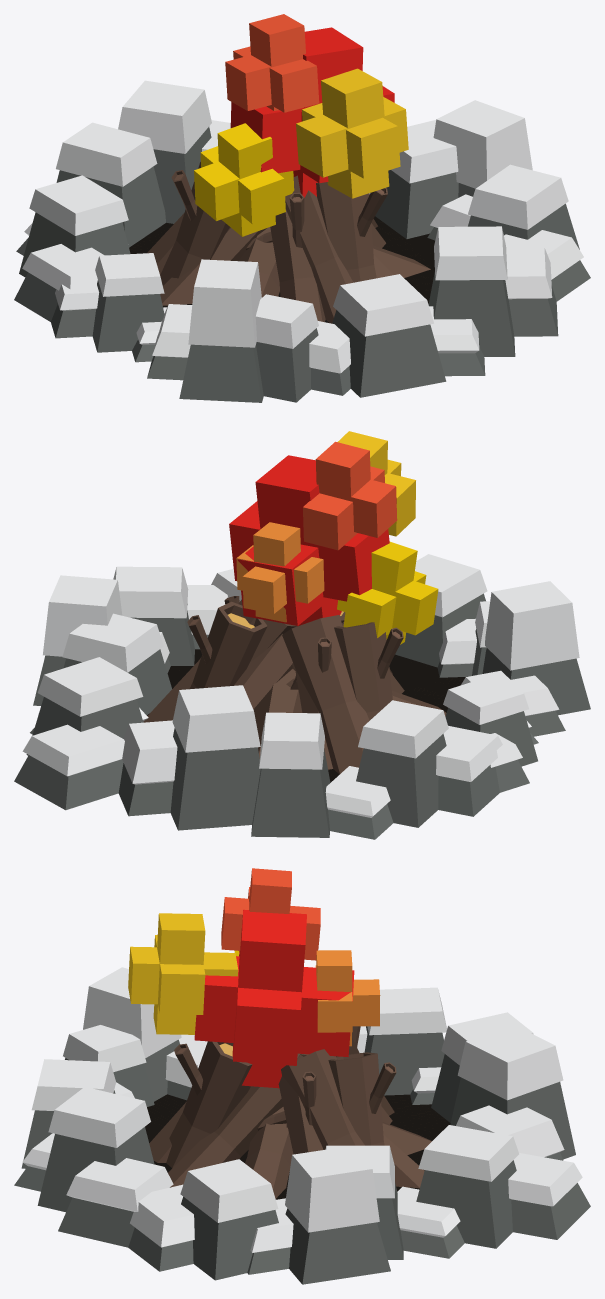
File: Mesh_Campfire_Fire.glb
3 views of the same model, one above another, from view 1: azimuth 30°, elevation 25°; view 2: azimuth 150°, elevation 25°; view 3: azimuth 270°, elevation 25° (orthographic). The views are drawn at different scales.
Visible parts, largest first — view 1: Mesh_Campfire_Fire; view 2: Mesh_Campfire_Fire; view 3: Mesh_Campfire_Fire.
Boxes of the visible parts, <box> form: Mesh_Campfire_Fire: <box>14,14,590,402</box>; Mesh_Campfire_Fire: <box>14,431,590,839</box>; Mesh_Campfire_Fire: <box>14,868,590,1284</box>.
Size of the model in its own units: 0.875 by 0.5499 by 0.9054.
1 material, 1 textured.
